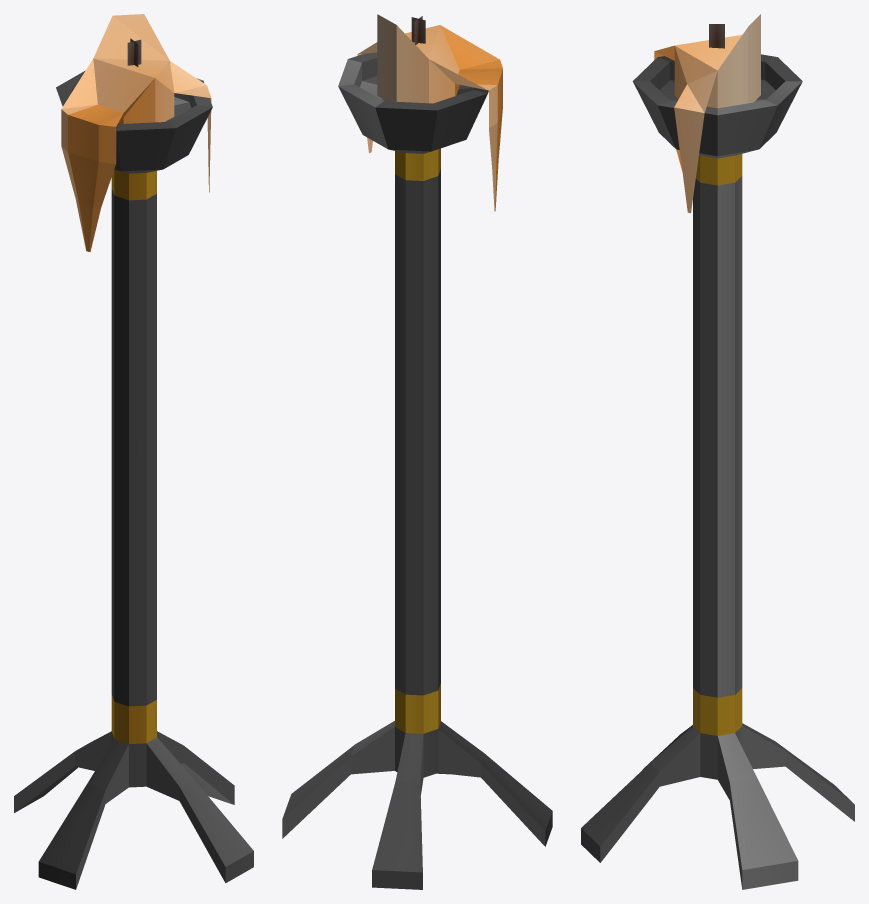
File: spent_light_997x14.obj
3 views of the same model, side by side, from view 1: azimuth 30°, elevation 25°; view 2: azimuth 150°, elevation 25°; view 3: azimuth 270°, elevation 25° (orthographic).
Visible parts, largest first — view 1: spent_light_997x14; view 2: spent_light_997x14; view 3: spent_light_997x14.
Part boxes in pixels (bbox=[...]): spent_light_997x14: bbox=[14, 14, 253, 889]; spent_light_997x14: bbox=[282, 14, 552, 889]; spent_light_997x14: bbox=[581, 14, 854, 889].
Bounding box in the file's own units: 0.4538 × 1.58 × 0.4768.
